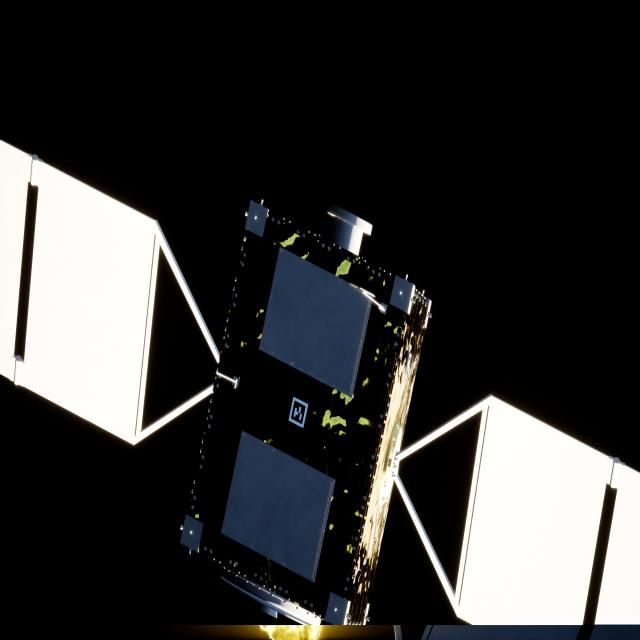medium_debris: (0, 141, 640, 628)
